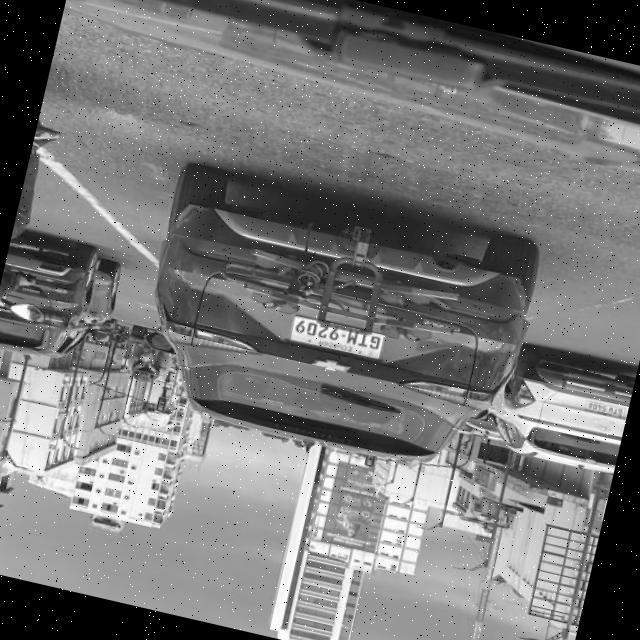Placa: (290, 318, 382, 359), (586, 402, 624, 418)
